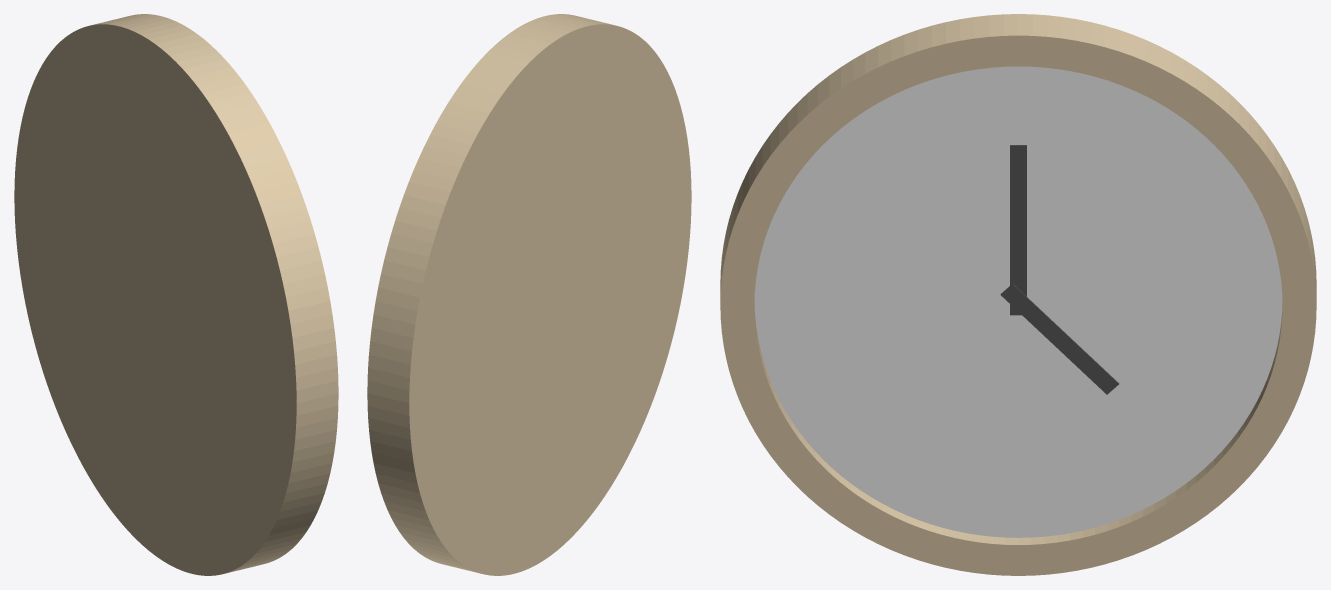
Rendered from wall-clock.glb.
3 renders of one model, left to right at view 1: azimuth 30°, elevation 25°; view 2: azimuth 150°, elevation 25°; view 3: azimuth 270°, elevation 25°, orthographic. The views are drawn at different scales.
Visible parts, largest first — view 1: Body; view 2: Body; view 3: Body, Hand, Hand.001.
Boxes of the visible parts, x1=… form: Body: x1=14, y1=14, x2=338, y2=575; Body: x1=367, y1=14, x2=691, y2=575; Body: x1=720, y1=14, x2=1316, y2=575; Hand: x1=1010, y1=145, x2=1026, y2=315; Hand.001: x1=1000, y1=283, x2=1119, y2=394.
Bounding box in the file's own units: 0.03 × 0.35 × 0.35.
